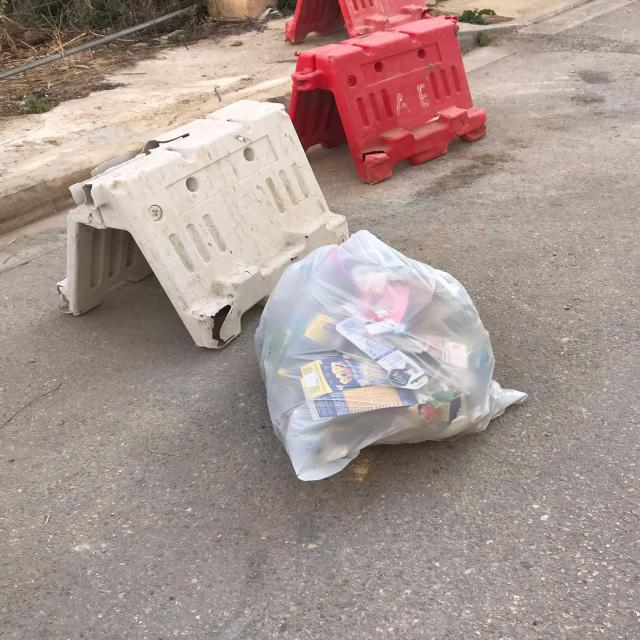Recycled Waste -Grey or Green Bag-: (261, 231, 530, 482)
